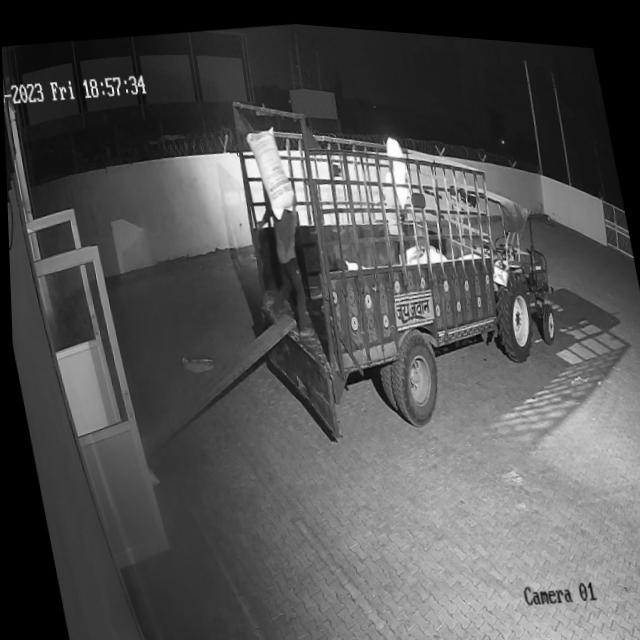sack: (243, 116, 300, 221)
